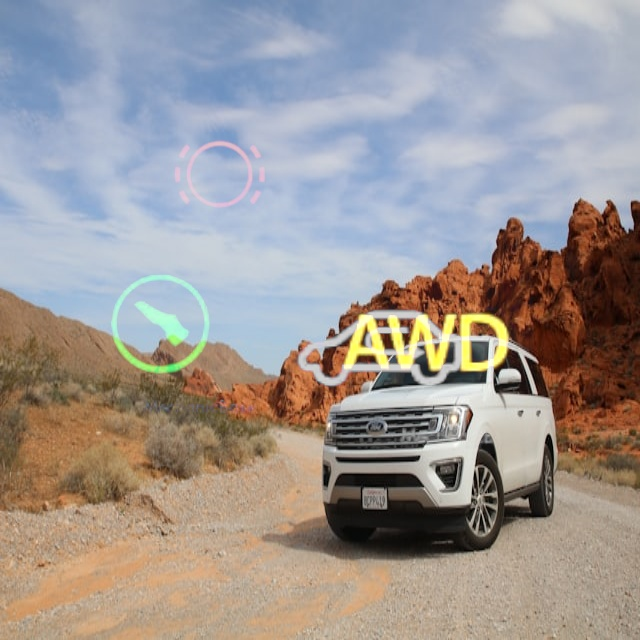symbol: (315, 236, 533, 454), (272, 242, 490, 460), (67, 227, 263, 423), (154, 110, 285, 241)
